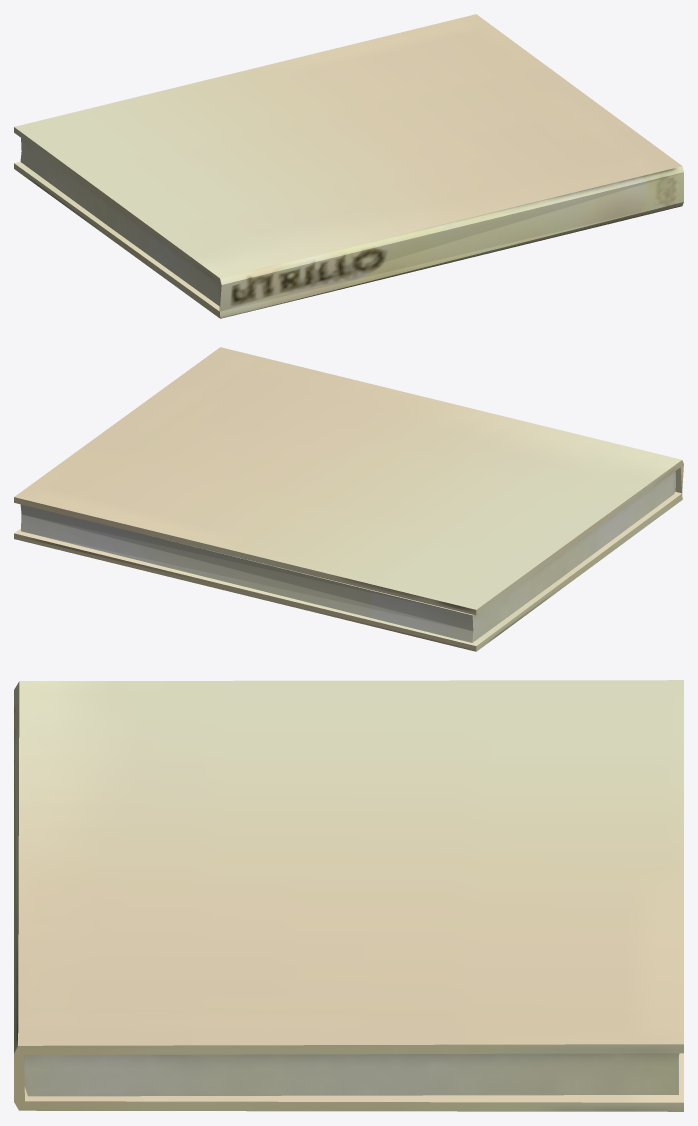
File: artbook_utrillo.dae
3 renders of one model, top to bottom at view 1: azimuth 30°, elevation 25°; view 2: azimuth 150°, elevation 25°; view 3: azimuth 270°, elevation 25°, orthographic. The views are drawn at different scales.
Visible parts, largest first — view 1: node; view 2: node; view 3: node.
Boxes of the visible parts, box(x1,y1,x2,y2) form: node: box(14, 14, 683, 318); node: box(14, 347, 683, 651); node: box(14, 680, 683, 1111).
Size of the model in its own units: 0.333 by 0.0289 by 0.259.
Materials: 1 (1 with a texture image).
